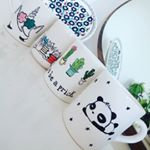cups: (59, 67, 149, 150)
